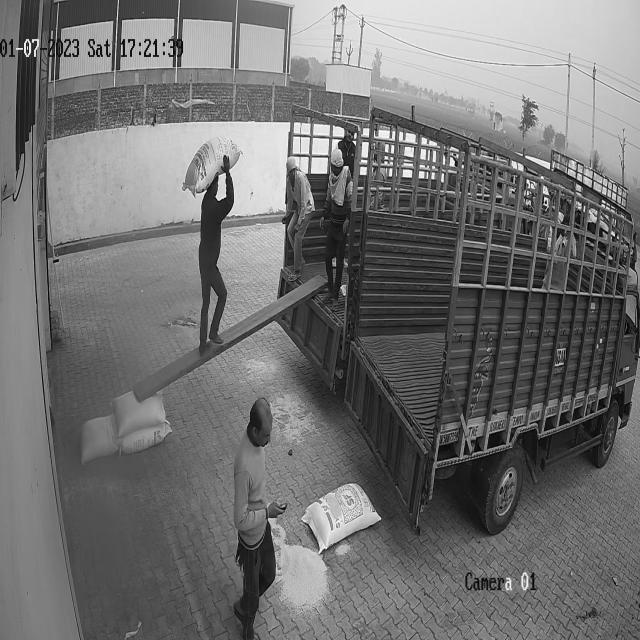sack: (301, 483, 381, 552), (182, 134, 240, 194), (110, 389, 166, 438), (79, 416, 119, 462), (121, 422, 172, 453)
